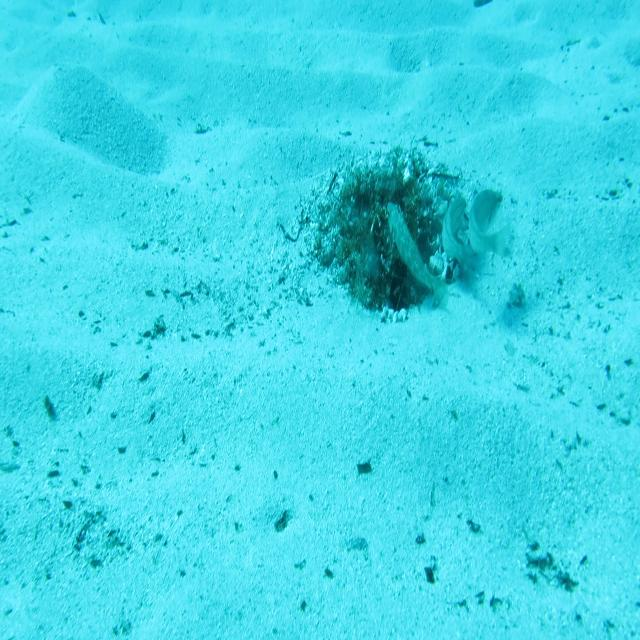FAN: (385, 201, 451, 313)
core_nest: (368, 183, 417, 215)
female: (468, 187, 514, 264), (442, 195, 482, 282)
nest: (303, 141, 473, 327)
vegetation: (356, 456, 371, 480), (274, 508, 290, 530)
